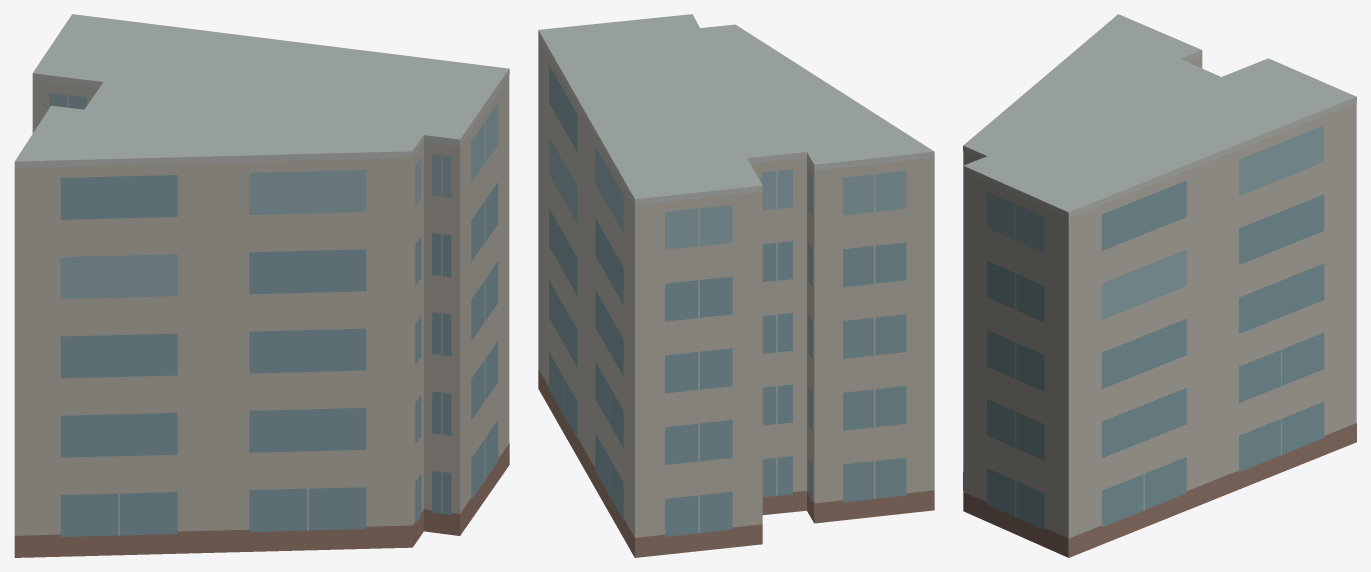
Rendered from survey-upis-32714696.glb.
The picture shows the model from 3 angles, left to right: view 1: azimuth 30°, elevation 25°; view 2: azimuth 150°, elevation 25°; view 3: azimuth 270°, elevation 25°; orthographic projection. The views are drawn at different scales.
Visible parts, largest first — view 1: survey-upis-32714696.tmp; view 2: survey-upis-32714696.tmp; view 3: survey-upis-32714696.tmp.
Boxes of the visible parts, box(x1,y1,x2,y2) form: survey-upis-32714696.tmp: box(14, 14, 509, 557); survey-upis-32714696.tmp: box(538, 14, 934, 557); survey-upis-32714696.tmp: box(963, 14, 1356, 557).
Size of the model in its own units: 18.11 by 14.7 by 15.18.
